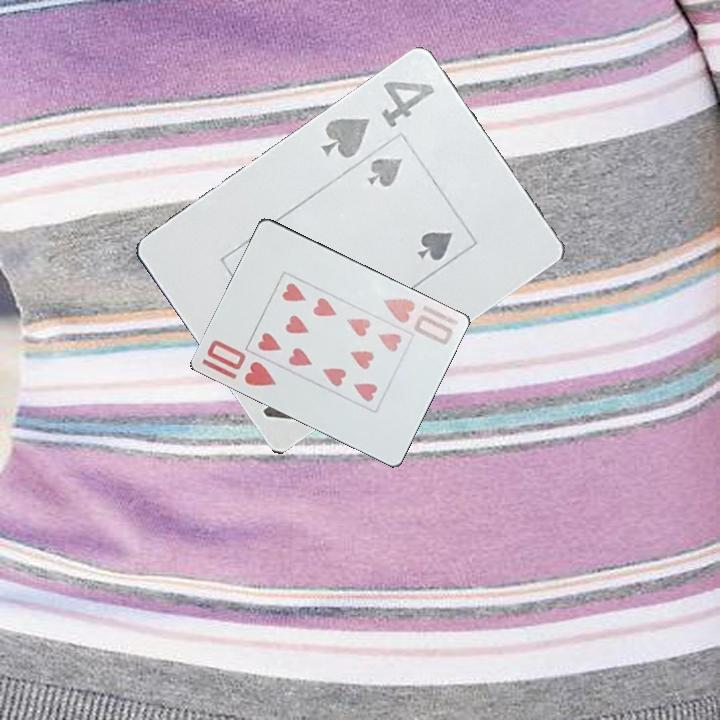4s: (319, 76, 438, 163)
Th: (378, 295, 461, 348), (203, 336, 279, 389)
